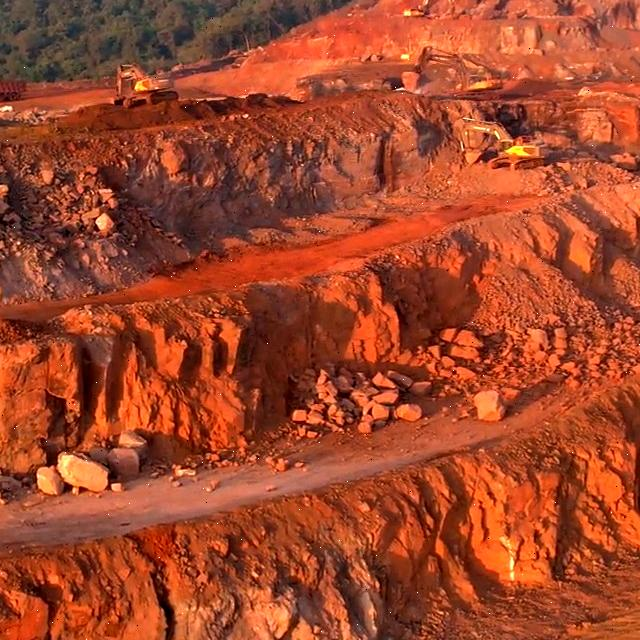Dumper truck: (0, 79, 20, 100)
Excavator: (455, 117, 528, 163), (117, 61, 176, 113), (489, 138, 550, 170), (404, 0, 431, 18)
